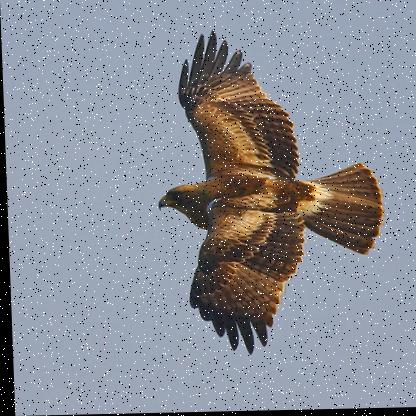Burung: (147, 25, 386, 356)
